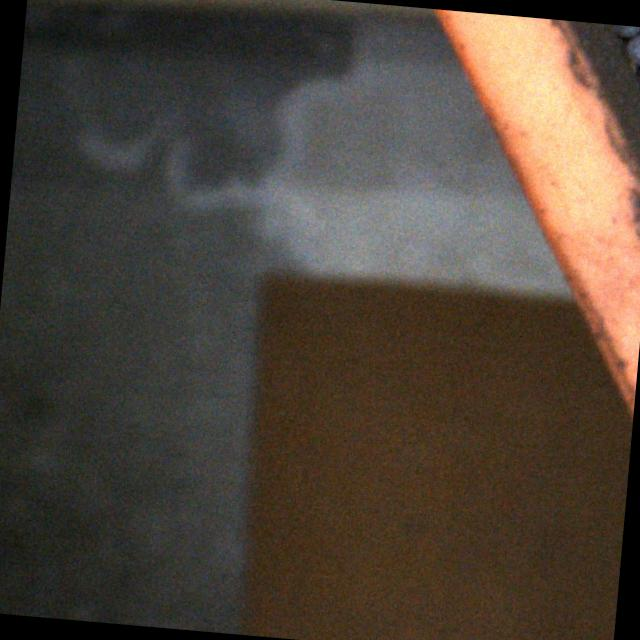tool: (622, 29, 640, 65)
